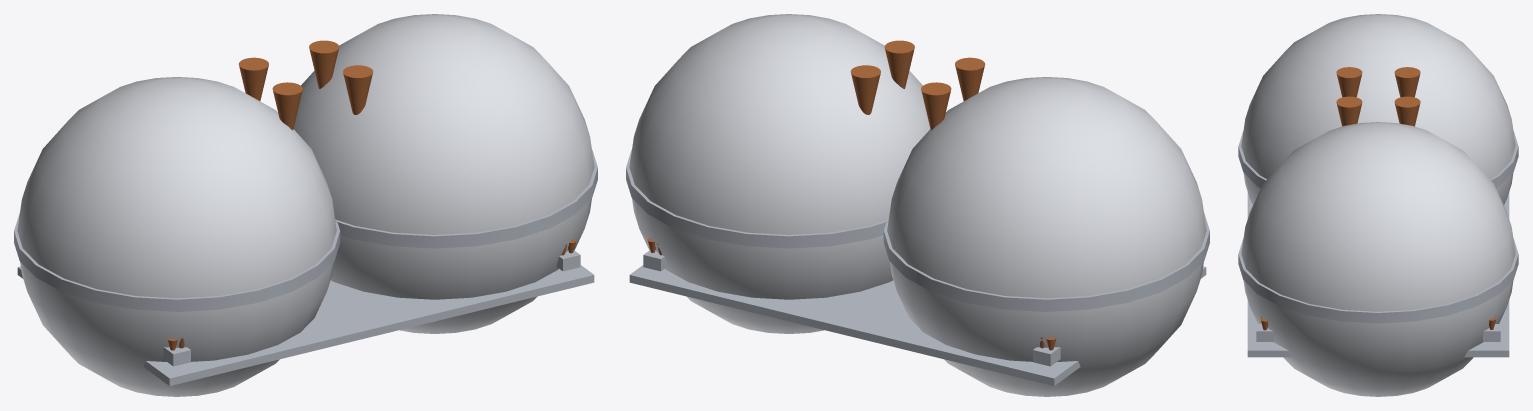
Rendered from mono_large.glb.
The picture shows the model from 3 angles, left to right: view 1: azimuth 30°, elevation 25°; view 2: azimuth 150°, elevation 25°; view 3: azimuth 270°, elevation 25°; orthographic projection. The views are drawn at different scales.
Visible parts, largest first — view 1: ml_tank_1, ml_tank_2, ml_deck, ml_girdle_1, ml_girdle_2, ml_m90_1, ml_m90_3, ml_m90_0, ml_m90_2; view 2: ml_tank_1, ml_tank_2, ml_deck, ml_girdle_1, ml_girdle_2, ml_m90_3, ml_m90_1, ml_m90_2, ml_m90_0; view 3: ml_tank_2, ml_tank_1, ml_girdle_2, ml_deck, ml_girdle_1, ml_m90_0, ml_m90_2, ml_m90_1, ml_m90_3, ml_rcs_blk_3, ml_rcs_blk_1.
Boxes of the visible parts, bbox=[...] form: ml_tank_1: bbox=[17, 77, 336, 396]; ml_tank_2: bbox=[293, 14, 594, 333]; ml_deck: bbox=[17, 265, 594, 385]; ml_girdle_1: bbox=[14, 213, 340, 311]; ml_girdle_2: bbox=[335, 149, 597, 248]; ml_m90_1: bbox=[343, 65, 373, 114]; ml_m90_3: bbox=[309, 40, 339, 88]; ml_m90_0: bbox=[272, 82, 302, 130]; ml_m90_2: bbox=[238, 57, 268, 100]; ml_tank_1: bbox=[887, 77, 1206, 396]; ml_tank_2: bbox=[629, 14, 930, 333]; ml_deck: bbox=[629, 265, 1206, 385]; ml_girdle_1: bbox=[883, 213, 1209, 311]; ml_girdle_2: bbox=[626, 149, 888, 248]; ml_m90_3: bbox=[850, 65, 880, 114]; ml_m90_1: bbox=[884, 40, 914, 88]; ml_m90_2: bbox=[921, 82, 951, 130]; ml_m90_0: bbox=[955, 57, 985, 100]; ml_tank_2: bbox=[1241, 122, 1515, 396]; ml_tank_1: bbox=[1241, 14, 1515, 204]; ml_girdle_2: bbox=[1238, 238, 1518, 323]; ml_deck: bbox=[1247, 192, 1509, 357]; ml_girdle_1: bbox=[1238, 131, 1518, 187]; ml_m90_0: bbox=[1336, 67, 1362, 97]; ml_m90_2: bbox=[1394, 67, 1420, 97]; ml_m90_1: bbox=[1336, 96, 1362, 126]; ml_m90_3: bbox=[1394, 96, 1420, 126]; ml_rcs_blk_3: bbox=[1483, 324, 1500, 341]; ml_rcs_blk_1: bbox=[1256, 324, 1273, 341].
Size of the model in its own units: 1.84 by 0.95 by 0.9643.
